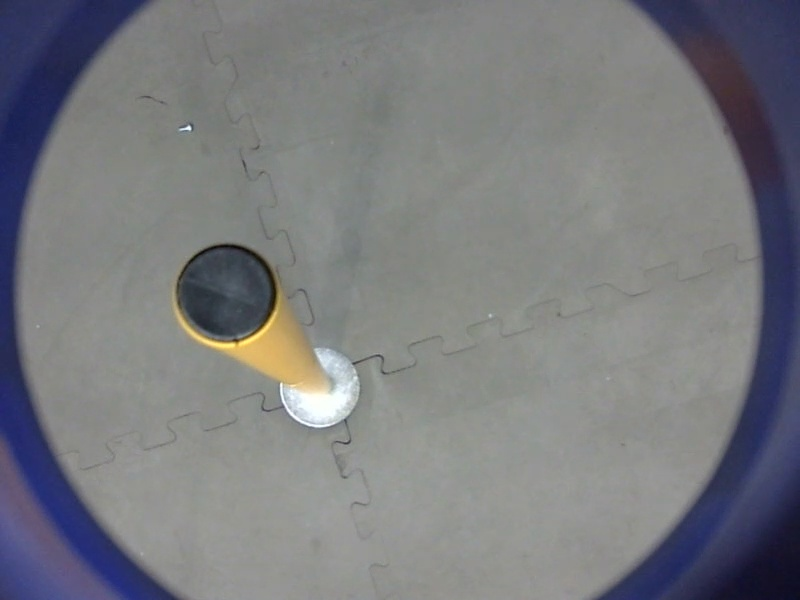tip: (168, 237, 284, 350)
